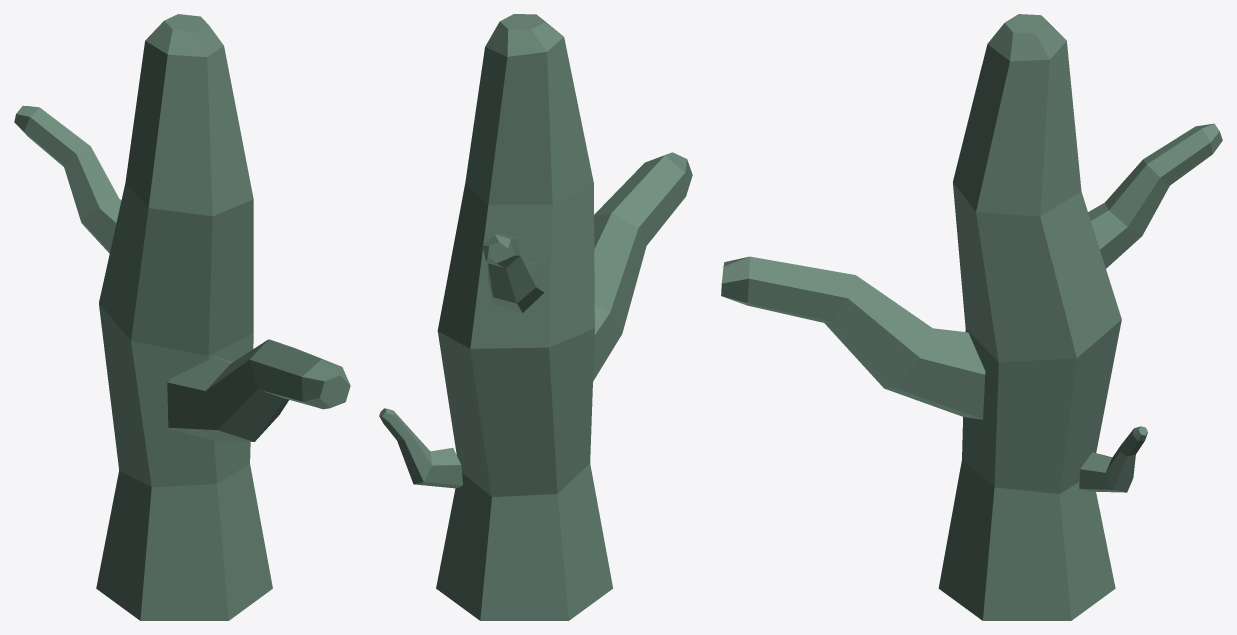
Rendered from Cactus2-col.glb.
3 renders of one model, left to right at view 1: azimuth 30°, elevation 25°; view 2: azimuth 150°, elevation 25°; view 3: azimuth 270°, elevation 25°, orthographic.
Visible parts, largest first — view 1: Cactus2-col; view 2: Cactus2-col; view 3: Cactus2-col.
Part boxes in pixels (left/top/right/bottom): Cactus2-col: left=14, top=14, right=350, bottom=620; Cactus2-col: left=379, top=14, right=692, bottom=620; Cactus2-col: left=721, top=14, right=1222, bottom=620.
Size of the model in its own units: 0.8529 by 2.83 by 2.27.
